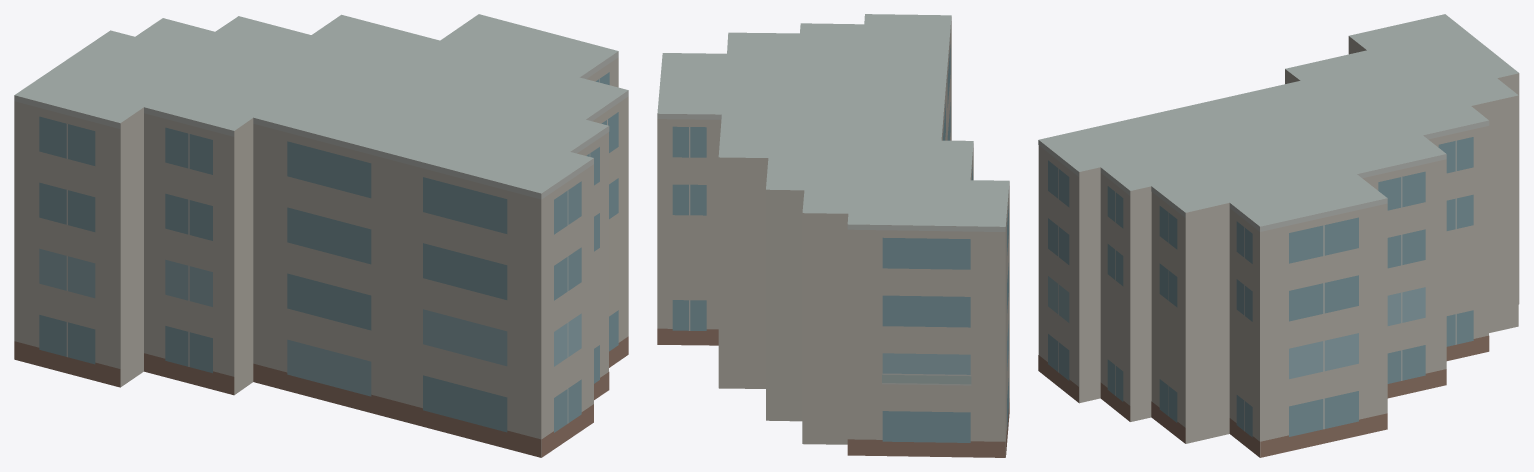
The model's file is survey-upis-32607823.glb.
3 renders of one model, left to right at view 1: azimuth 30°, elevation 25°; view 2: azimuth 150°, elevation 25°; view 3: azimuth 270°, elevation 25°, orthographic. The views are drawn at different scales.
Visible parts, largest first — view 1: survey-upis-32607823.tmp; view 2: survey-upis-32607823.tmp; view 3: survey-upis-32607823.tmp.
Part boxes in pixels (x1,y1,x2,y2): survey-upis-32607823.tmp: [14, 14, 628, 457]; survey-upis-32607823.tmp: [657, 14, 1009, 457]; survey-upis-32607823.tmp: [1038, 14, 1519, 457].
Size of the model in its own units: 21.13 by 10.7 by 20.19.
